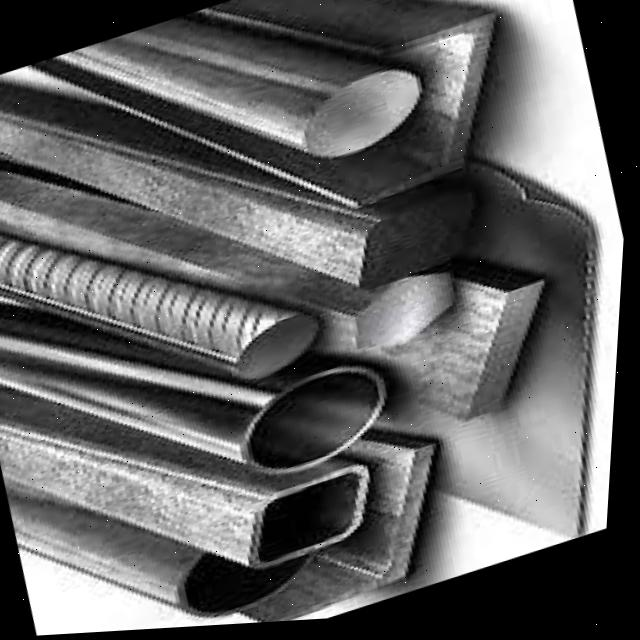Dry: (21, 0, 621, 638)
